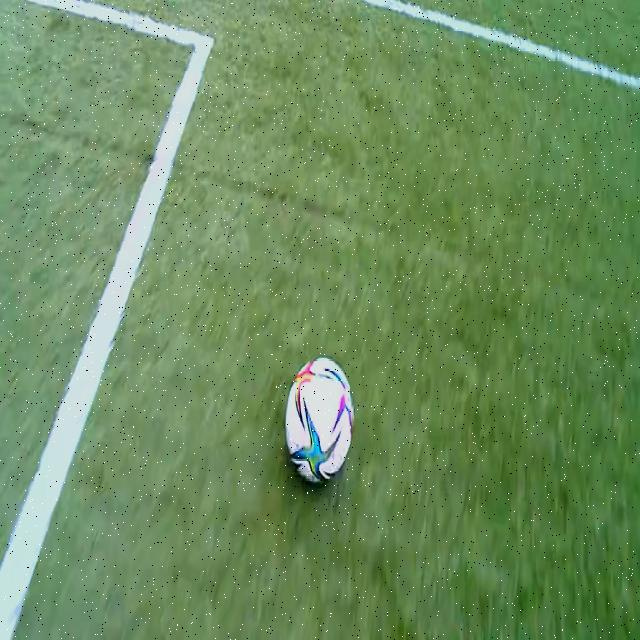ball: (285, 357, 355, 482)
